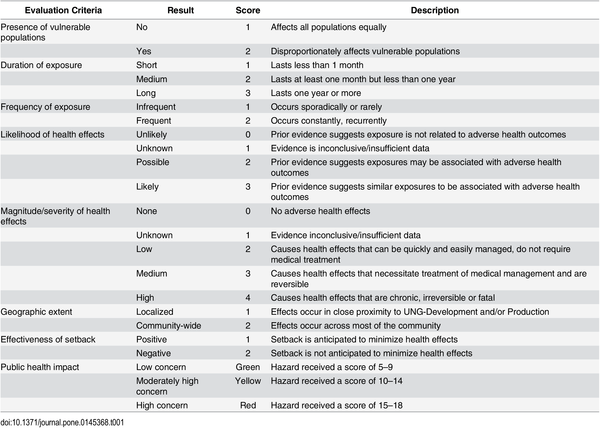fracking table: (1, 1, 600, 414)
